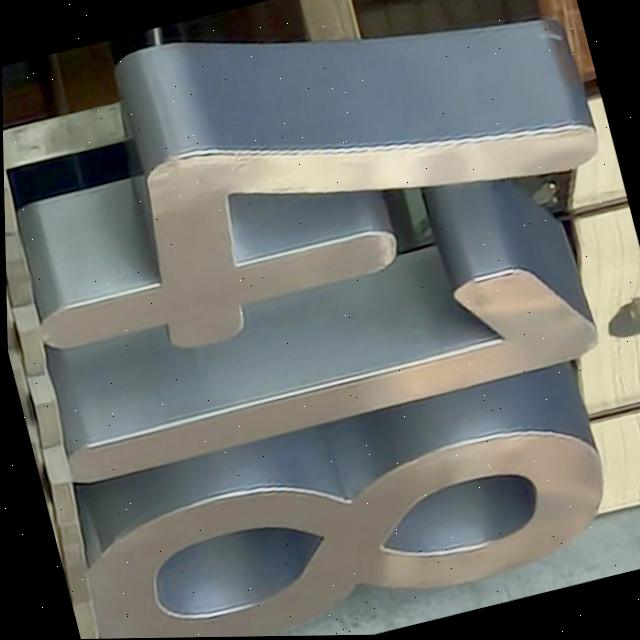character: (1, 47, 635, 402), (27, 245, 616, 500), (57, 398, 628, 639)
